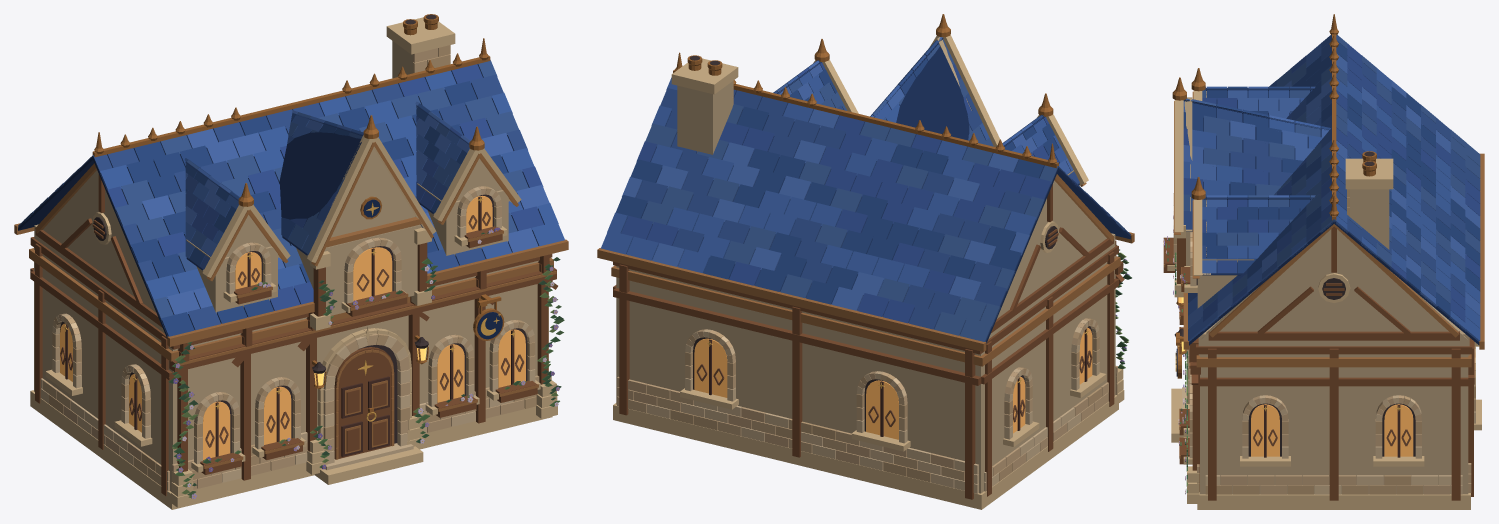
File: inn-exterior.glb
3 views of the same model, side by side, from view 1: azimuth 30°, elevation 25°; view 2: azimuth 150°, elevation 25°; view 3: azimuth 270°, elevation 25° (orthographic). The views are drawn at different scales.
Parts seen in each view (by area): view 1: Limestone lodge, Main lapis slate, Central pointed gable, Amber diamond-lattice windows, Paired gabled dormers, Lavender planters and ivy, Entrance arch and limestone step, Oak guest door, Twin-flue stone chimney, Blue crescent and star hanging sign, Two brass entrance lanterns; view 2: Limestone lodge, Main lapis slate, Central pointed gable, Paired gabled dormers, Twin-flue stone chimney; view 3: Limestone lodge, Main lapis slate, Central pointed gable, Paired gabled dormers, Twin-flue stone chimney, Lavender planters and ivy, Amber diamond-lattice windows, Entrance arch and limestone step.
Boxes of the visible parts, x1=… form: Limestone lodge: x1=29, y1=163, x2=557, y2=509; Main lapis slate: x1=14, y1=38, x2=568, y2=346; Central pointed gable: x1=279, y1=110, x2=436, y2=330; Amber diamond-lattice windows: x1=191, y1=186, x2=540, y2=472; Paired gabled dormers: x1=184, y1=101, x2=521, y2=313; Lavender planters and ivy: x1=168, y1=226, x2=564, y2=499; Entrance arch and limestone step: x1=314, y1=327, x2=423, y2=484; Oak guest door: x1=334, y1=347, x2=394, y2=459; Twin-flue stone chimney: x1=386, y1=14, x2=455, y2=78; Blue crescent and star hanging sign: x1=473, y1=294, x2=504, y2=340; Two brass entrance lanterns: x1=312, y1=335, x2=428, y2=389; Limestone lodge: x1=611, y1=174, x2=1124, y2=509; Main lapis slate: x1=597, y1=52, x2=1134, y2=351; Central pointed gable: x1=870, y1=14, x2=999, y2=147; Paired gabled dormers: x1=773, y1=39, x2=1088, y2=186; Twin-flue stone chimney: x1=671, y1=55, x2=738, y2=154; Limestone lodge: x1=1187, y1=224, x2=1481, y2=509; Main lapis slate: x1=1183, y1=14, x2=1484, y2=349; Central pointed gable: x1=1172, y1=77, x2=1330, y2=297; Paired gabled dormers: x1=1191, y1=68, x2=1315, y2=308; Twin-flue stone chimney: x1=1345, y1=151, x2=1393, y2=249; Lavender planters and ivy: x1=1163, y1=215, x2=1190, y2=494; Amber diamond-lattice windows: x1=1167, y1=193, x2=1197, y2=464; Entrance arch and limestone step: x1=1171, y1=346, x2=1189, y2=442.
Size of the model in its own units: 6.53 by 5.55 by 4.72.
